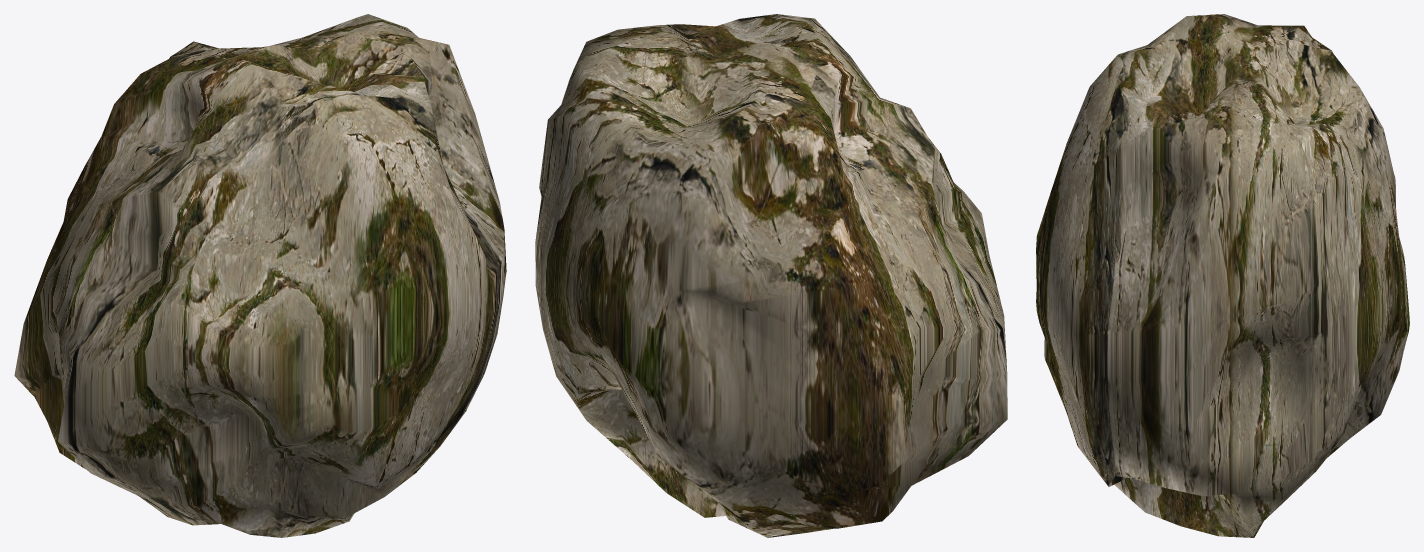
File: colObj03.FBX
3 views of the same model, side by side, from view 1: azimuth 30°, elevation 25°; view 2: azimuth 150°, elevation 25°; view 3: azimuth 270°, elevation 25° (orthographic).
Parts seen in each view (by area): view 1: colObj03; view 2: colObj03; view 3: colObj03.
Part boxes in pixels (x1,y1,x2,y2): colObj03: [14, 14, 506, 537]; colObj03: [535, 14, 1007, 537]; colObj03: [1036, 14, 1409, 537].
Bounding box in the file's own units: 45.76 × 33.77 × 47.9.
Materials: 1 (1 with a texture image).
